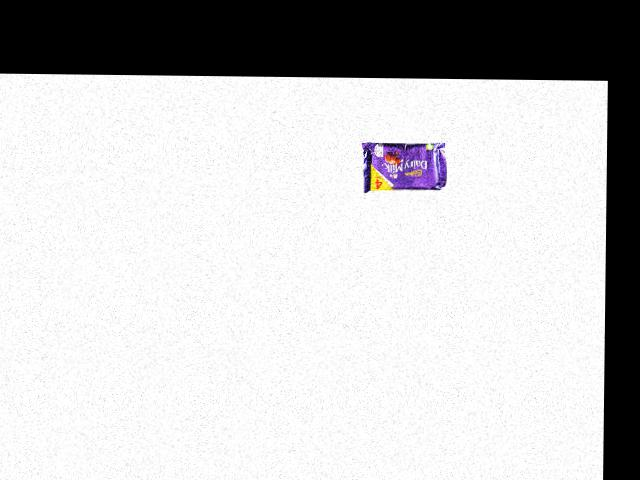chocolate: (351, 134, 450, 193)
